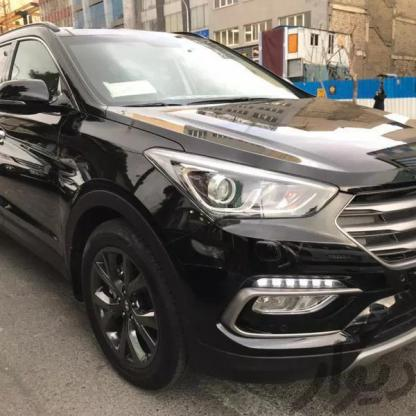Car: (0, 11, 416, 399)
